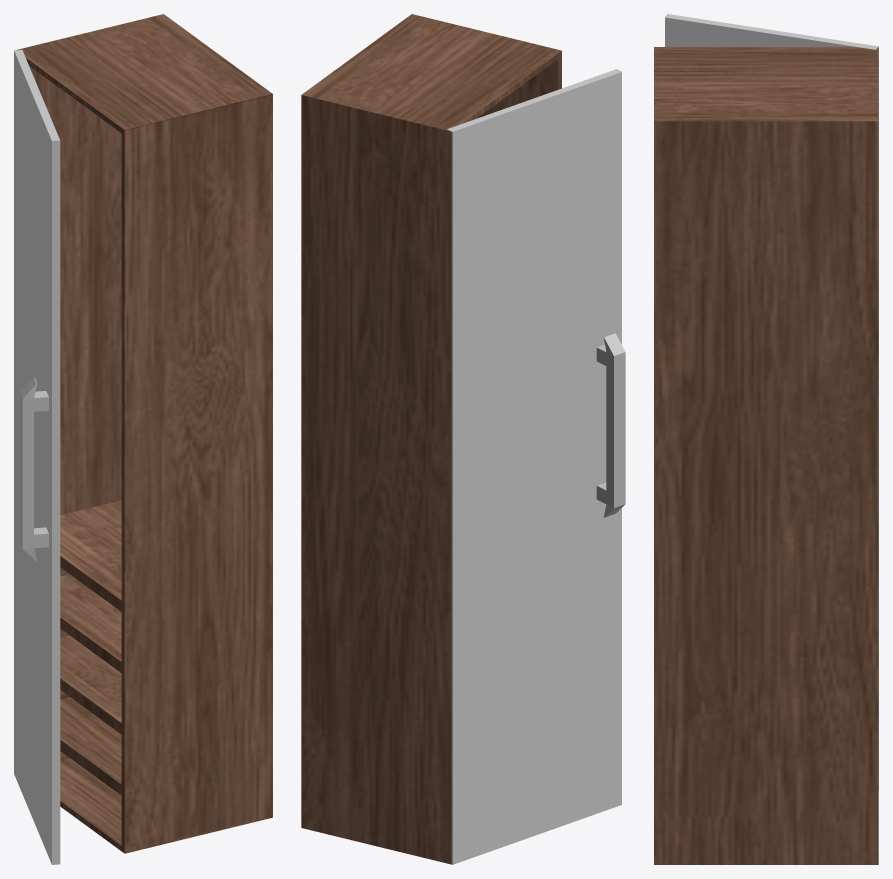
The model's file is Wardrobe.fbx.
The picture shows the model from 3 angles, left to right: view 1: azimuth 30°, elevation 25°; view 2: azimuth 150°, elevation 25°; view 3: azimuth 270°, elevation 25°; orthographic projection. The views are drawn at different scales.
Parts seen in each view (by area): view 1: Cube.106; view 2: Cube.106; view 3: Cube.106.
Part boxes in pixels (left/top/right/bottom): Cube.106: left=14, top=14, right=272, bottom=864; Cube.106: left=301, top=14, right=625, bottom=864; Cube.106: left=654, top=14, right=878, bottom=864.
Size of the model in its own units: 59.86 by 180 by 49.17.
